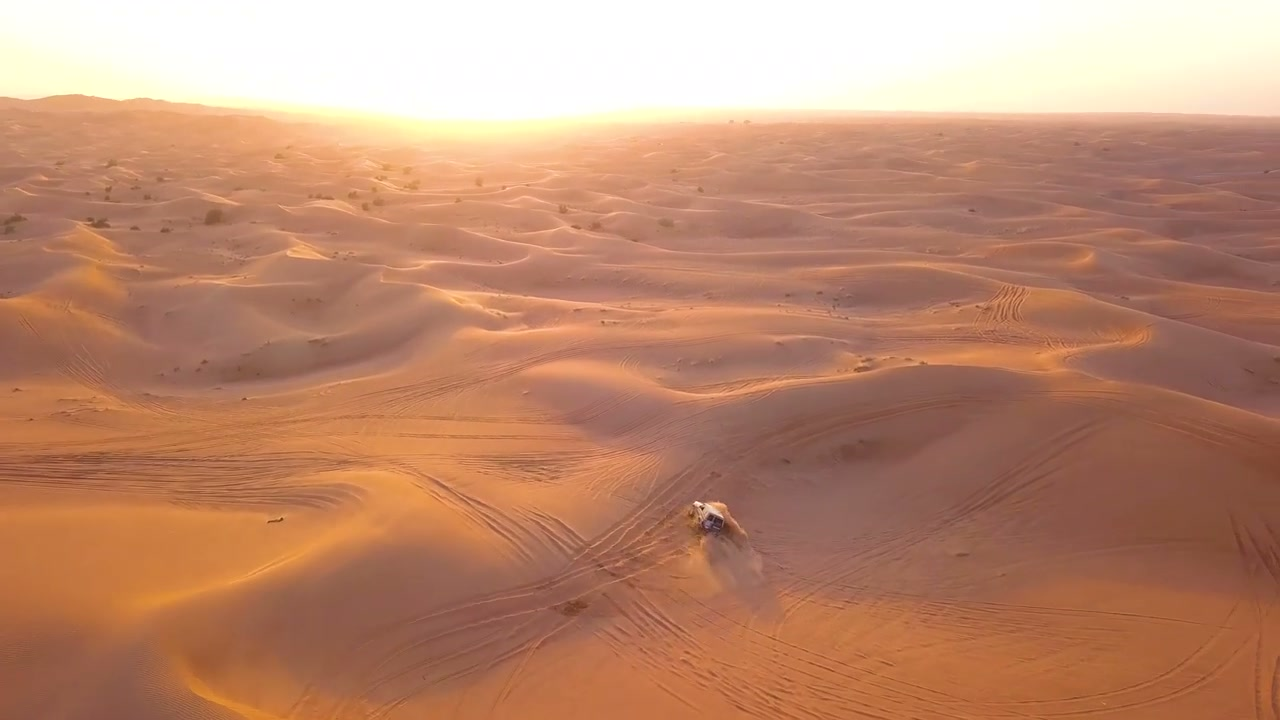vehicle_track: (298, 393, 980, 703), (298, 432, 760, 715), (297, 456, 718, 716), (772, 416, 1097, 633), (775, 419, 1097, 631), (688, 597, 1249, 717), (793, 580, 1252, 716), (335, 551, 674, 717), (259, 331, 751, 426), (680, 592, 970, 719), (331, 331, 752, 415), (595, 593, 852, 717), (981, 603, 1250, 716), (454, 399, 730, 493), (361, 613, 571, 719), (1029, 388, 1279, 473), (926, 414, 1104, 533), (0, 451, 364, 507), (1017, 635, 1250, 717), (828, 582, 1228, 629), (19, 313, 182, 418), (380, 457, 541, 563), (1044, 635, 1242, 715), (753, 393, 988, 455), (1229, 512, 1279, 719), (593, 625, 704, 713), (57, 343, 187, 418), (602, 397, 736, 457), (491, 618, 573, 712), (90, 416, 290, 454), (972, 285, 1081, 352), (441, 448, 595, 484), (358, 414, 568, 440), (1230, 513, 1279, 596), (1060, 323, 1153, 363), (515, 506, 587, 557), (673, 371, 829, 394), (973, 285, 1029, 343), (357, 430, 576, 442), (562, 392, 640, 425), (877, 327, 1025, 344), (1153, 294, 1223, 324), (988, 284, 1028, 324), (18, 313, 46, 341), (1268, 653, 1279, 719)
